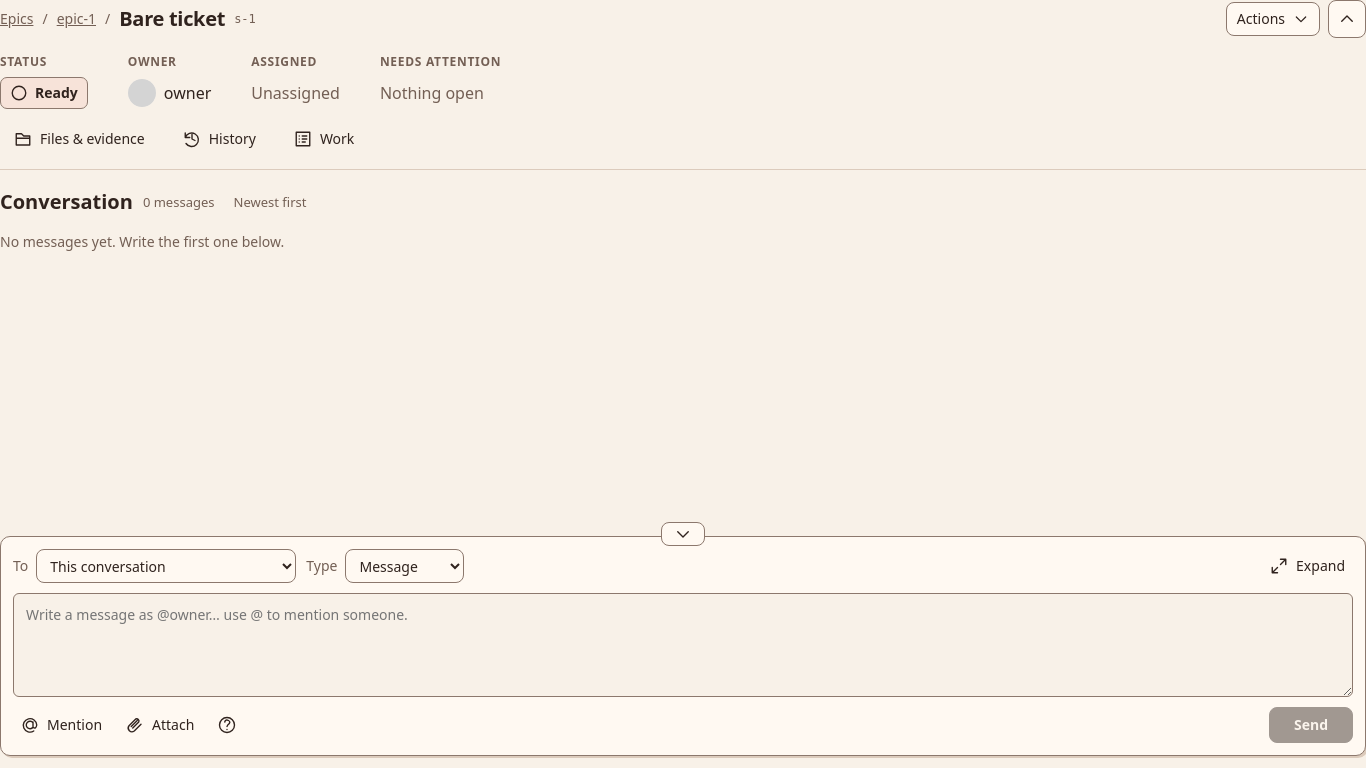
Test: TicketPage › renders the empty-state variants: no description, no tags, no criteria, no docs, no thread
expect the element with test id "work-assigned" reads "Unassigned": met, box [251, 82, 340, 104]
expect the text "No messages yet. Write the first one below." is shown: met, box [0, 232, 284, 251]
Click the button with test id "work-work".
click(324, 139)  # box [280, 119, 368, 159]
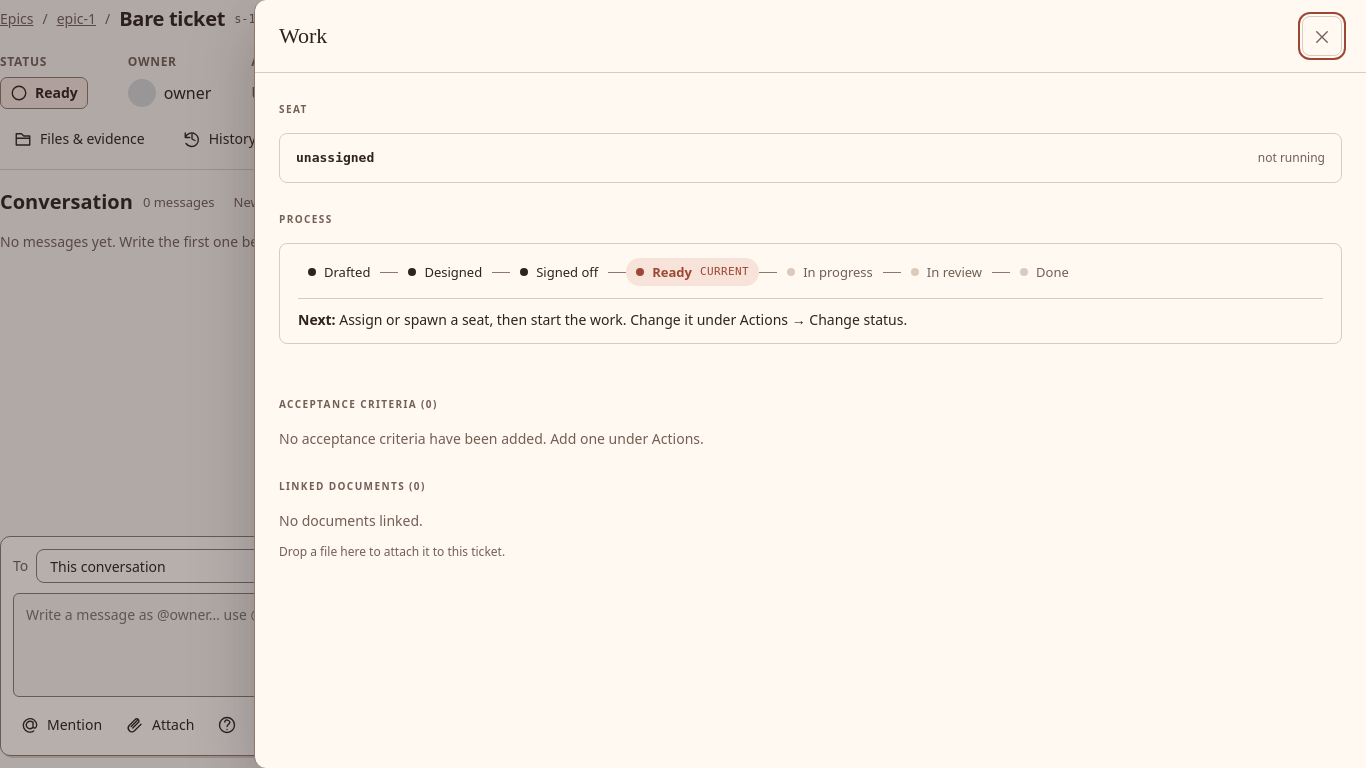
expect the text "No acceptance criteria have been added" is shown: met, box [279, 429, 704, 448]
expect the text "No documents linked." is shown: met, box [279, 511, 423, 530]
expect the text "not running" is shown: met, box [1258, 146, 1325, 170]
